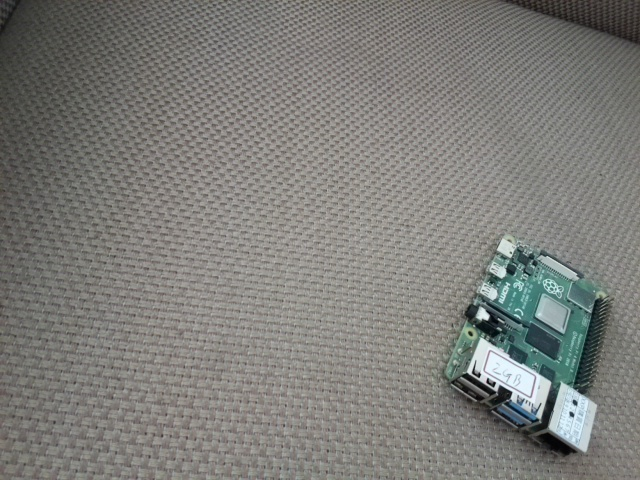Pi4: (442, 229, 615, 460)
